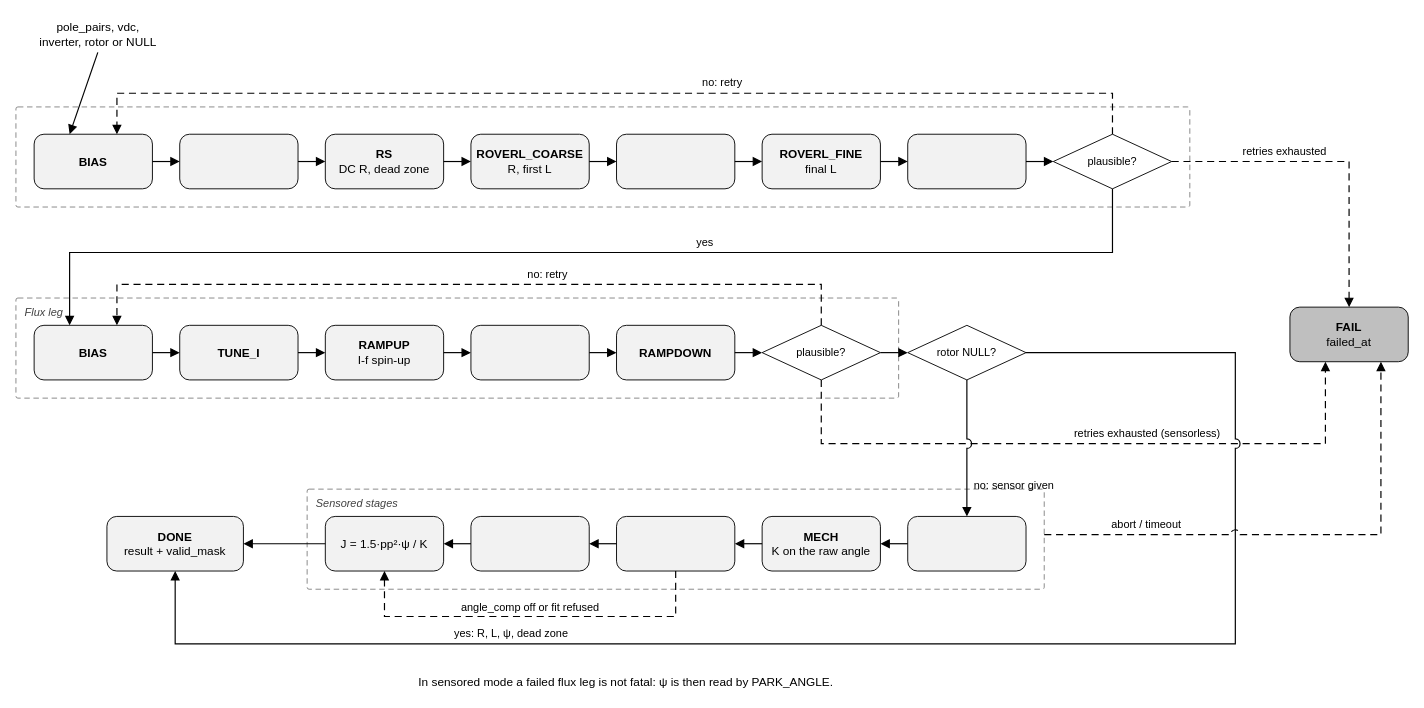
Image size: 1424x708. Some labels were removed from this diagram. Each missing label, with the box of its shape:
DIRECTION +I q turns the shaft forward: (907, 516, 1026, 571)
LAGCAL sense delay: (616, 133, 735, 189)
MECH K on the corrected angle: (470, 516, 589, 571)
PARK_ANGLE offset d0, delay τ: (616, 516, 735, 571)
RATED_FLUX ψ (+ pole pairs with a sensor): (470, 324, 589, 380)
Standstill leg: (15, 106, 1190, 207)
TERMINAL winding symmetry: (179, 133, 298, 189)
TUNE_I current PI: (907, 133, 1026, 189)
